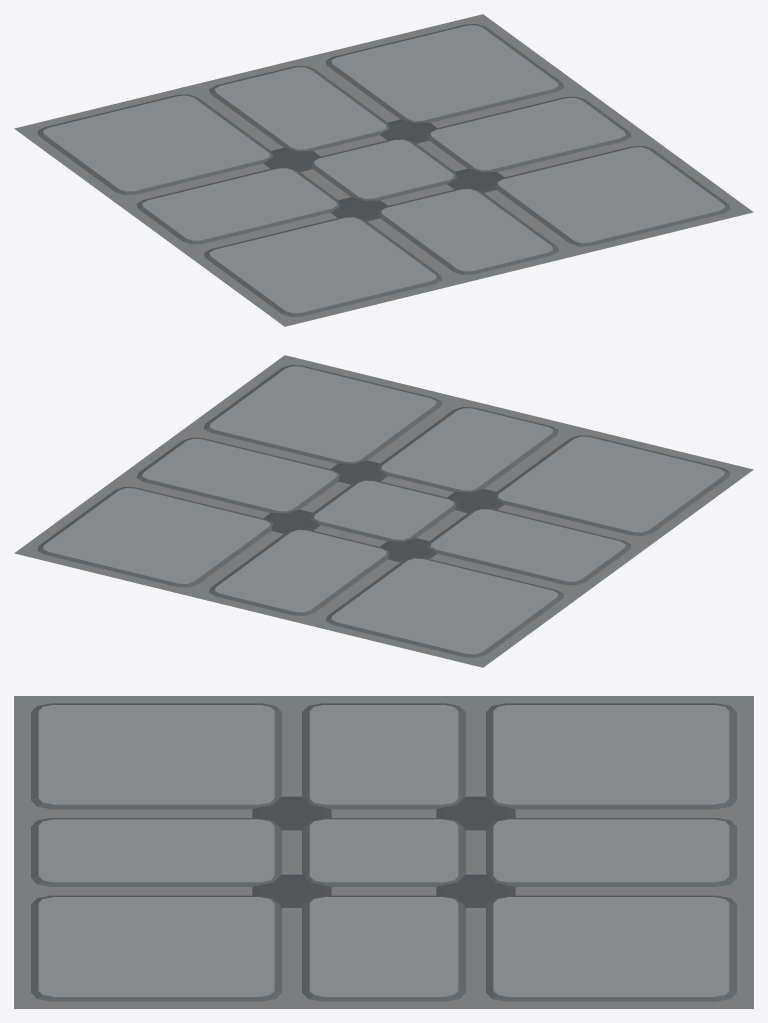
The model's file is Floor_type_B_014.fbx.
3 views of the same model, one above another, from view 1: azimuth 30°, elevation 25°; view 2: azimuth 150°, elevation 25°; view 3: azimuth 270°, elevation 25° (orthographic). The views are drawn at different scales.
Visible parts, largest first — view 1: Floor_type_B_014; view 2: Floor_type_B_014; view 3: Floor_type_B_014.
Boxes of the visible parts, left/top/right/bottom form: Floor_type_B_014: left=14, top=14, right=753, bottom=326; Floor_type_B_014: left=14, top=355, right=753, bottom=667; Floor_type_B_014: left=14, top=696, right=753, bottom=1008.
Size of the model in its own units: 400 by 400 by 1.34.
